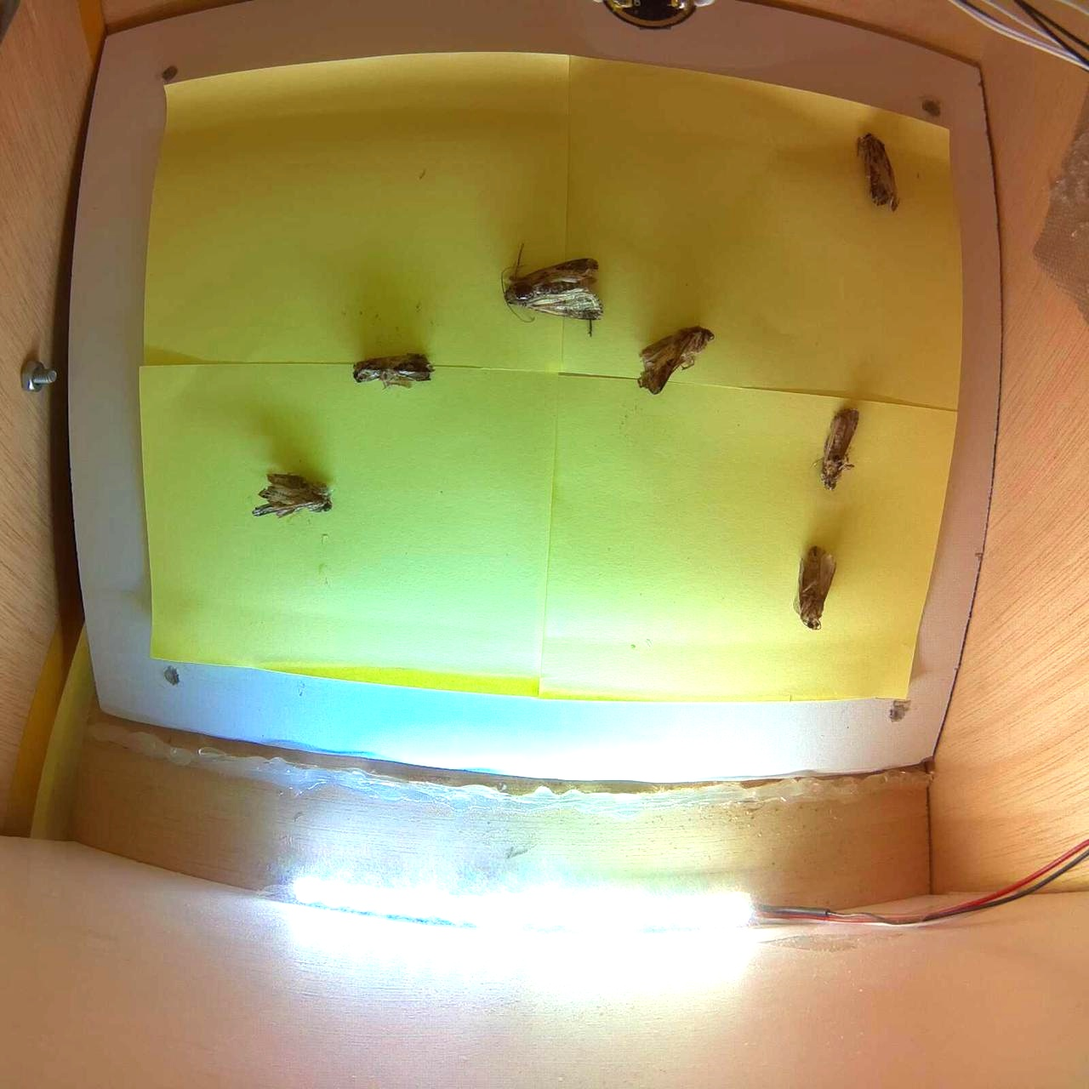Spodoptera litura: (502, 243, 602, 339), (638, 328, 715, 395), (250, 472, 337, 520), (818, 406, 862, 491), (856, 133, 901, 212), (798, 545, 836, 630), (351, 353, 435, 391)
